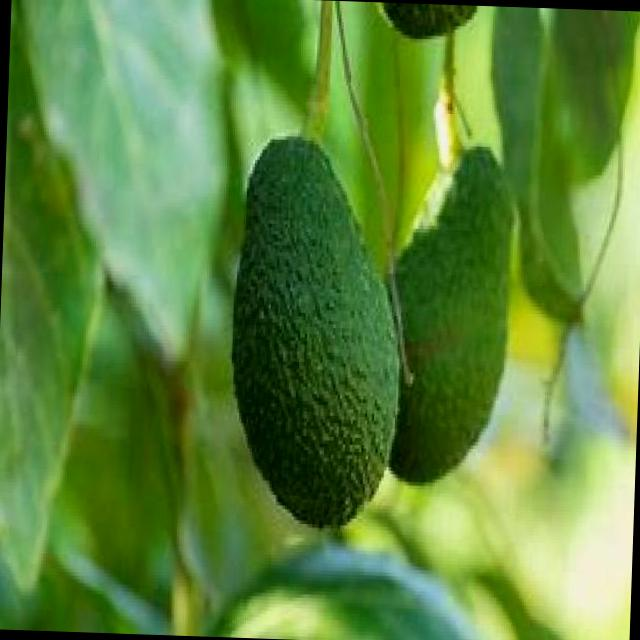avocado: (215, 134, 416, 540)
